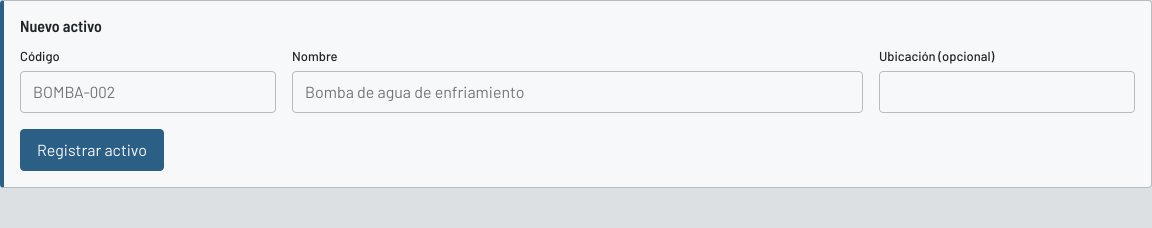
NewAssetForm › shows that the code is already taken
Type "BOMBA-001" into the field labelled "Código" at [148, 92], box 20,71 -> 276,113
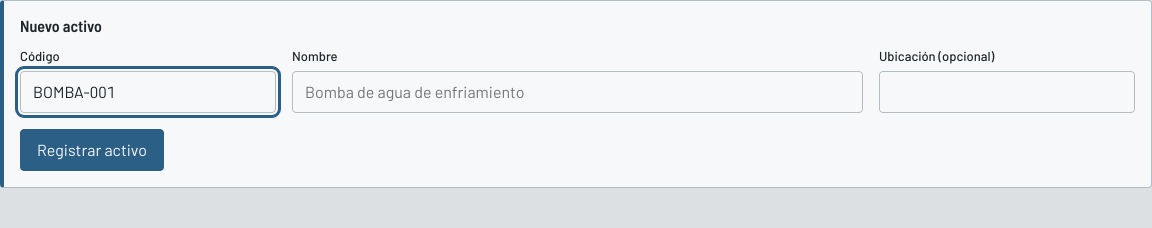
Type "Otra bomba" into the field labelled "Nombre" at [578, 92], box 292,71 -> 863,113
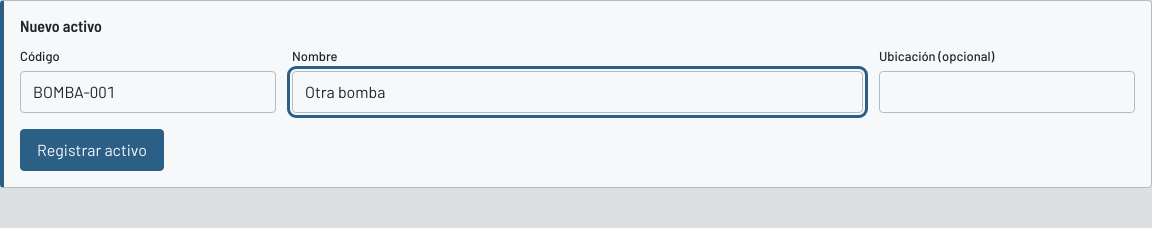
Click the button "Registrar activo" at [92, 150], box 20,129 -> 164,171
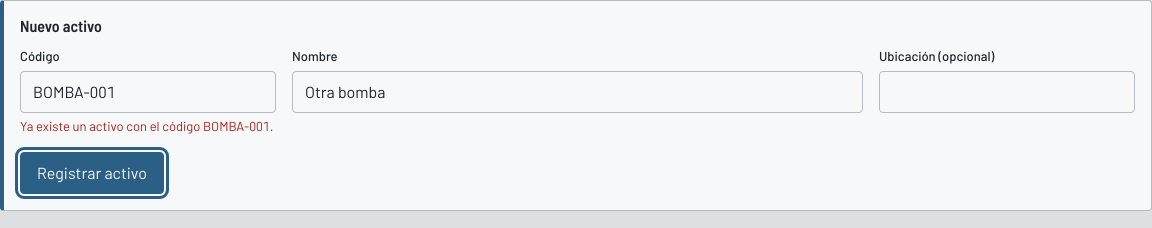
Expected: the text "Ya existe un activo con el código BOMBA-001." is shown, 20,117 -> 276,136
